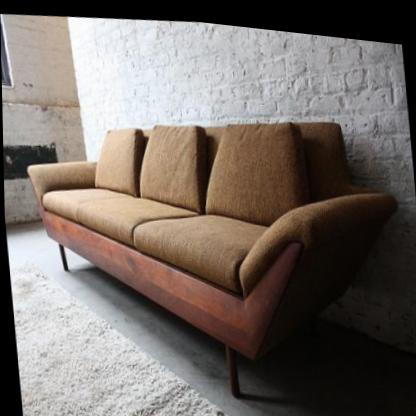Sofa: (19, 77, 416, 416)
